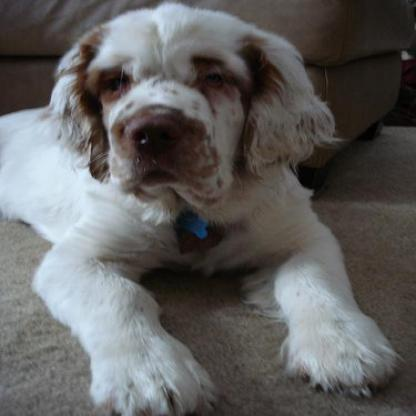clumber: (0, 3, 410, 413)
